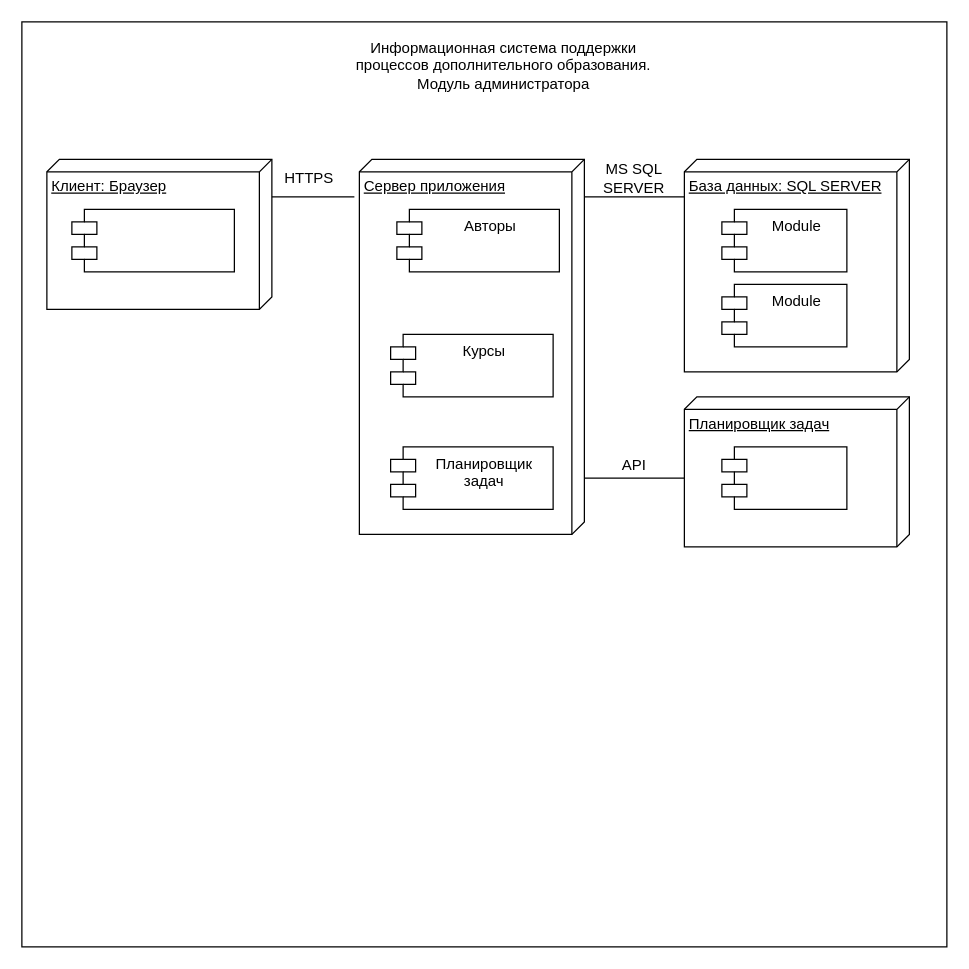
This 969x969 diagram has some shape labels left out. The centre of each missing label's shape, as x and y in pixels:
Менеджер курсов: pixel 784 477
Модуль администратора: pixel 152 240
